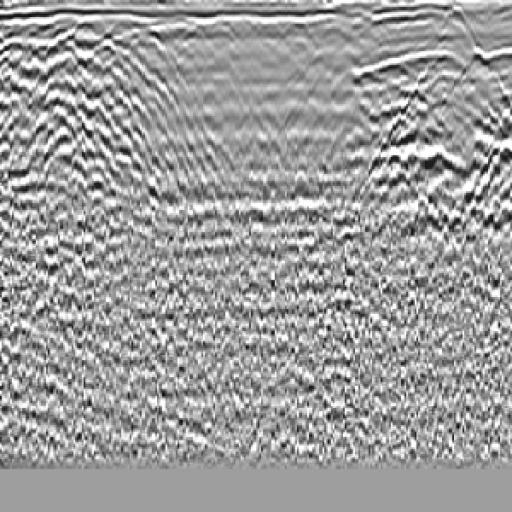non-metallic: (341, 51, 463, 290)
